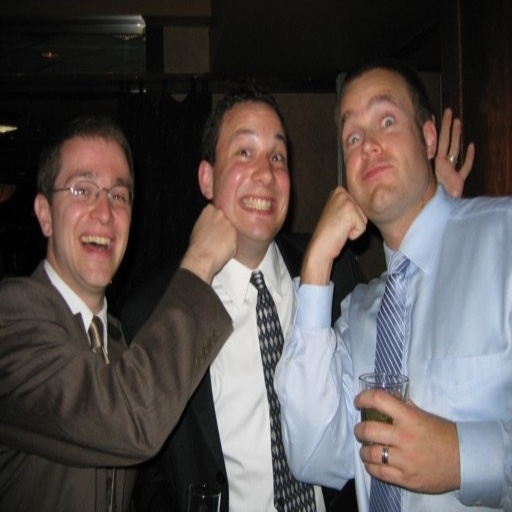hand: (352, 386, 460, 494), (429, 105, 476, 200), (311, 184, 368, 262), (188, 200, 240, 274)
